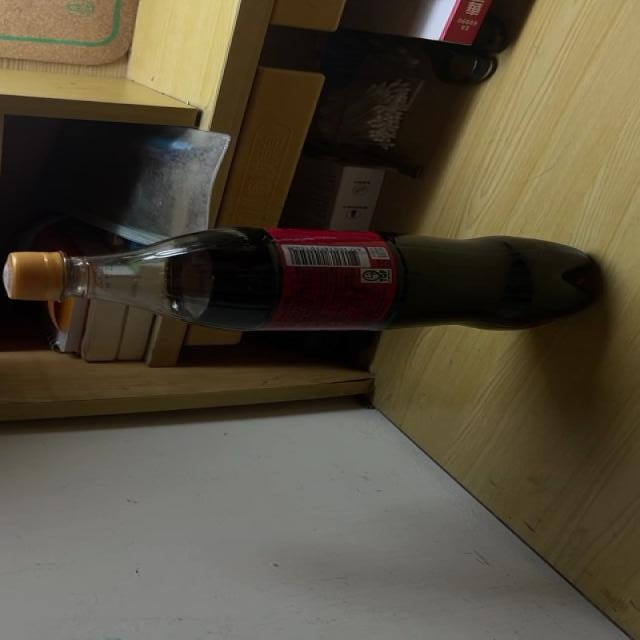Coca-Cola: (0, 227, 599, 331)
